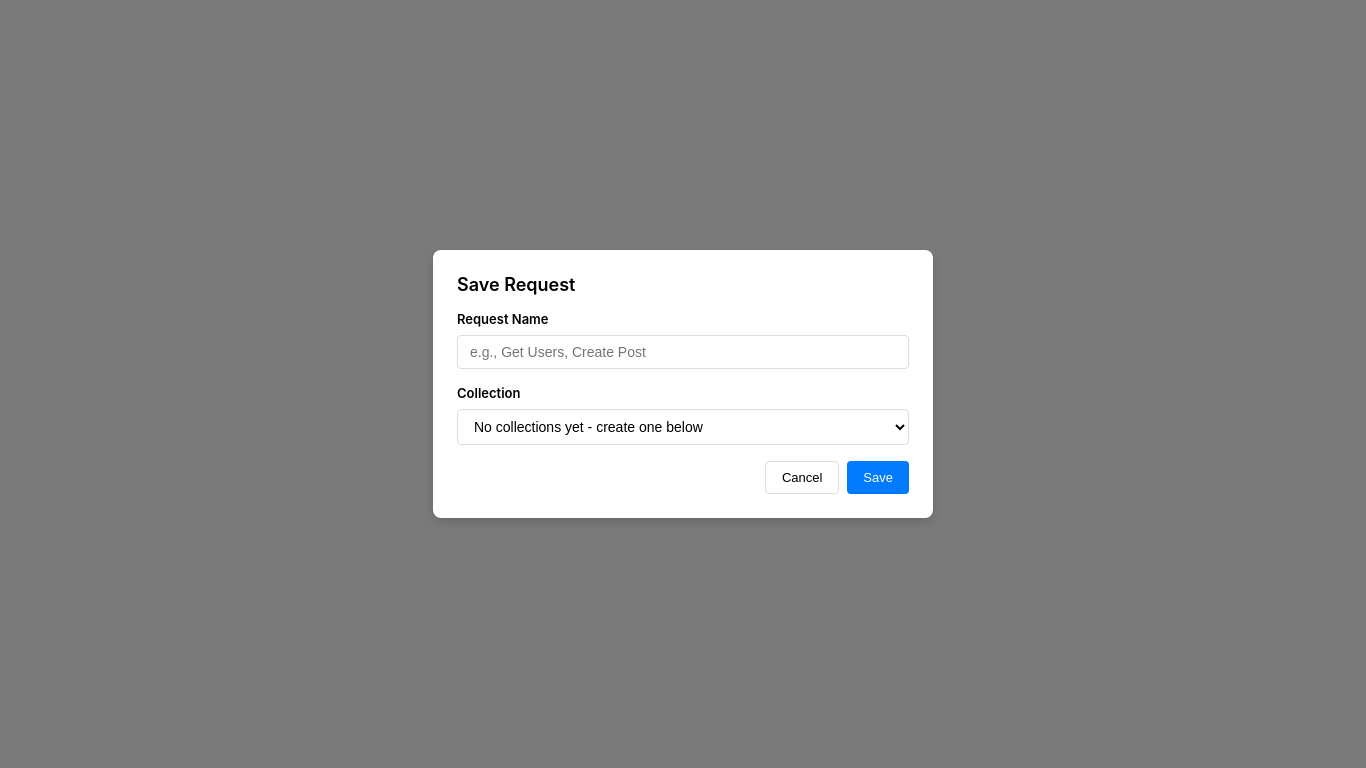
Scenario: SaveRequestDialog › Request name input › should show error when request name is empty
Click the button "Save".
click(878, 478)  # box [847,461,909,494]
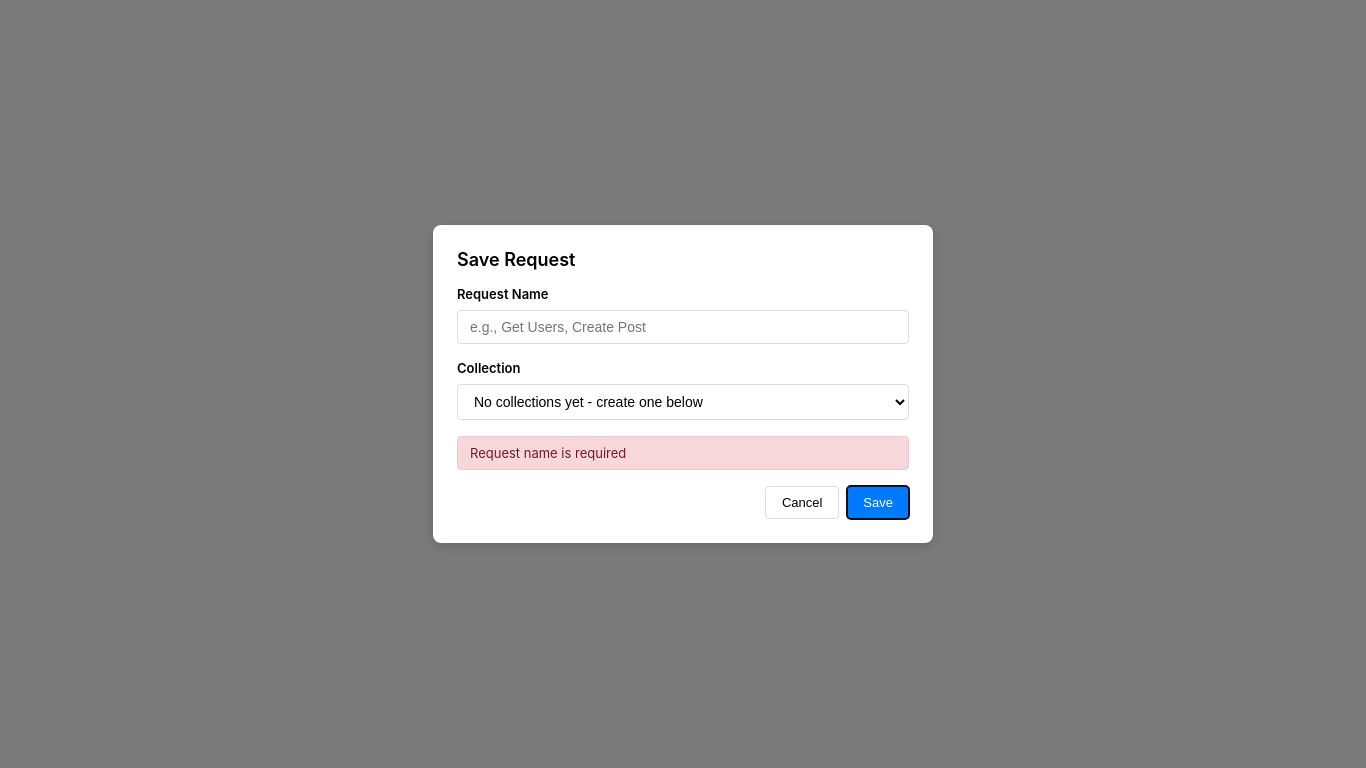
Expected: the text "Request name is required" is shown, [457,436,909,470]
